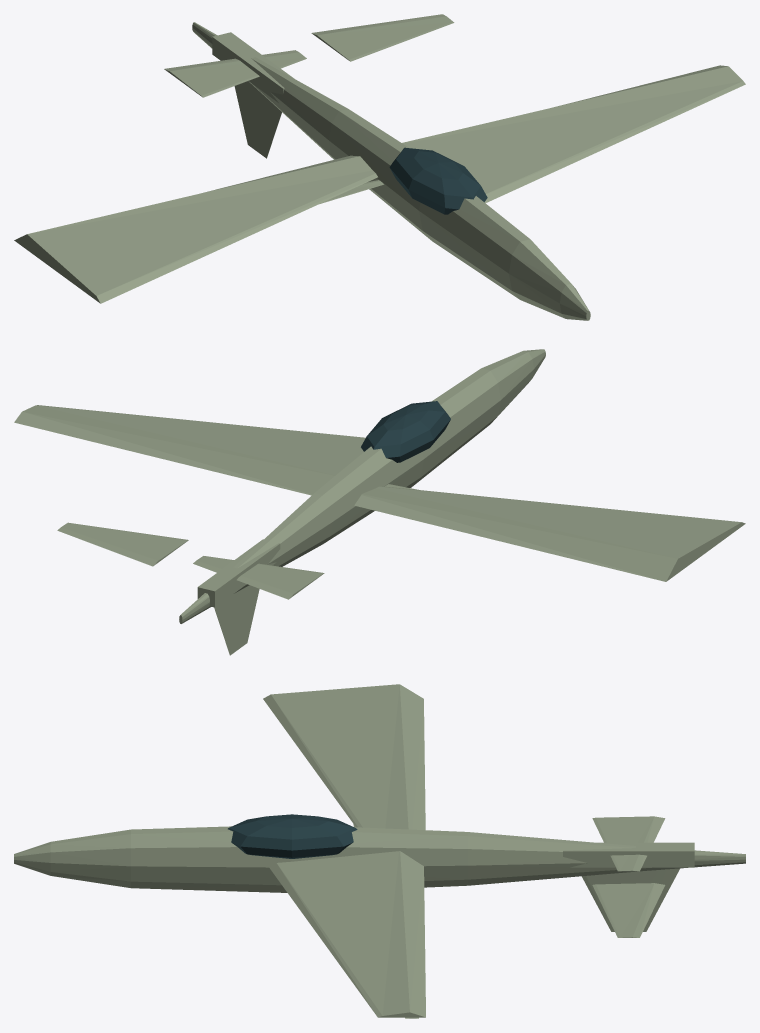
3 renders of one model, top to bottom at view 1: azimuth 30°, elevation 25°; view 2: azimuth 150°, elevation 25°; view 3: azimuth 270°, elevation 25°, orthographic. The views are drawn at different scales.
Visible parts, largest first — view 1: Wing_L, Fuselage, Wing_R, Cockpit, Elevator_R, Elevator_L, Rudder, TailBoom; view 2: Wing_L, Wing_R, Fuselage, Cockpit, Elevator_R, Elevator_L, Rudder, TailBoom; view 3: Fuselage, Wing_R, Wing_L, Cockpit, Elevator_R, TailBoom, Elevator_L, Rudder.
Boxes of the visible parts, <box> form: Wing_L: <box>14,155,377,303</box>; Fuselage: <box>192,22,590,320</box>; Wing_R: <box>402,65,745,203</box>; Cockpit: <box>389,147,487,214</box>; Elevator_R: <box>311,14,454,61</box>; Elevator_L: <box>164,50,306,97</box>; Rudder: <box>234,81,281,158</box>; TailBoom: <box>212,32,294,102</box>; Wing_L: <box>354,486,745,581</box>; Wing_R: <box>14,405,365,495</box>; Fuselage: <box>179,349,545,623</box>; Cockpit: <box>361,401,450,462</box>; Elevator_R: <box>57,522,188,566</box>; Elevator_L: <box>193,556,324,599</box>; Rudder: <box>214,585,259,655</box>; TailBoom: <box>197,539,280,607</box>; Fuselage: <box>14,826,745,892</box>; Wing_R: <box>269,851,425,1017</box>; Wing_L: <box>263,684,425,830</box>; Cockpit: <box>228,814,357,858</box>; Elevator_R: <box>592,883,665,937</box>; TailBoom: <box>563,842,694,867</box>; Elevator_L: <box>592,816,665,871</box>; Rudder: <box>582,868,680,931</box>.
Bounding box in the file's own units: 16.83 × 2.77 × 16.26.
